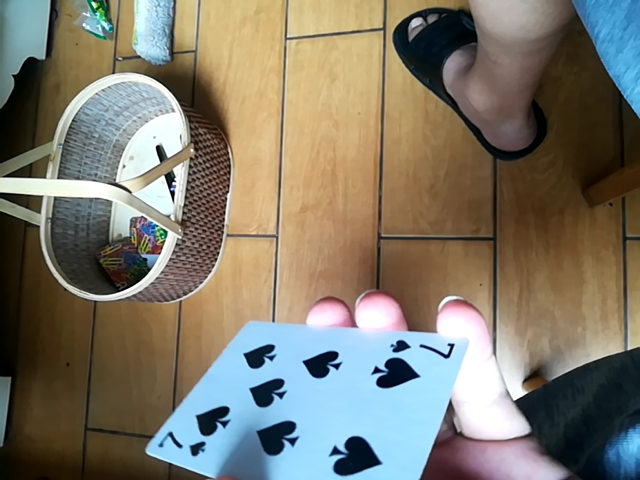ht 7: (148, 318, 469, 477)
